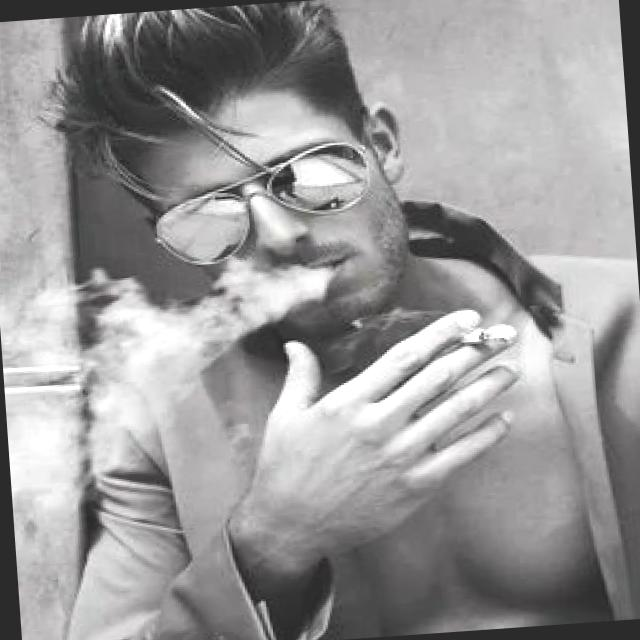smoke: (458, 322, 516, 350)
